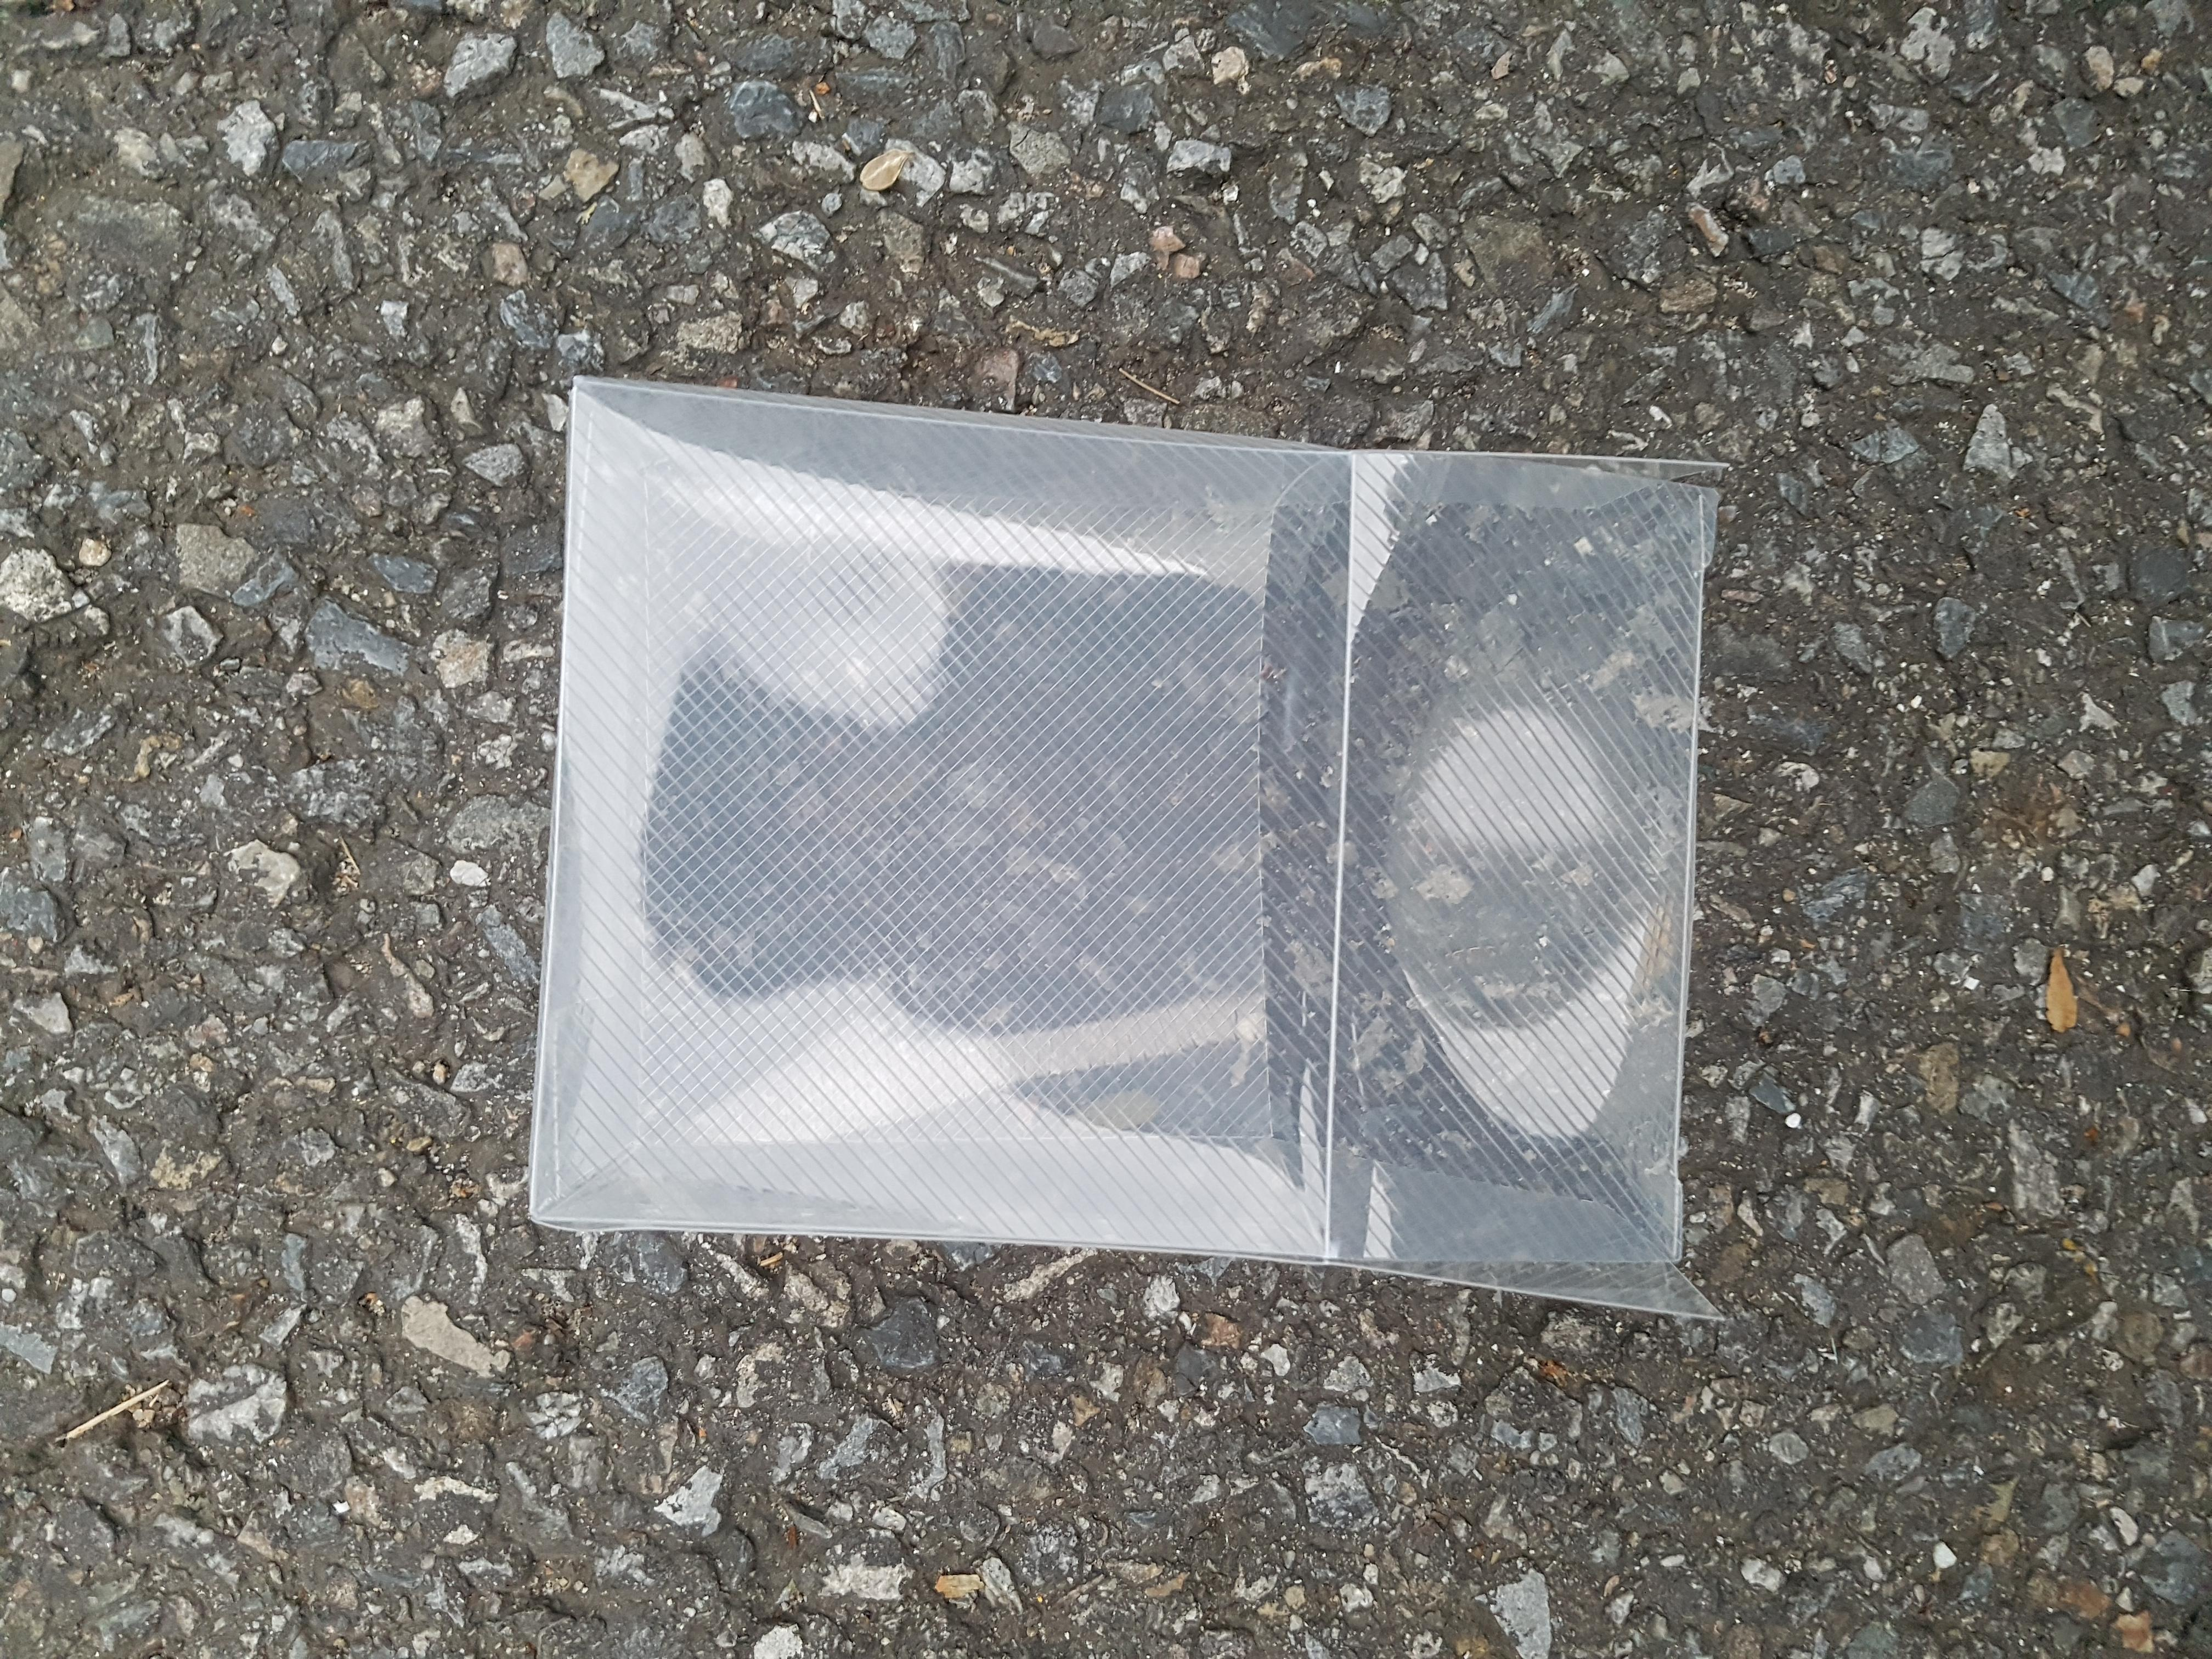bottle: (387, 369, 1838, 1314)
